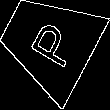P_NW: (19, 14, 77, 71)
